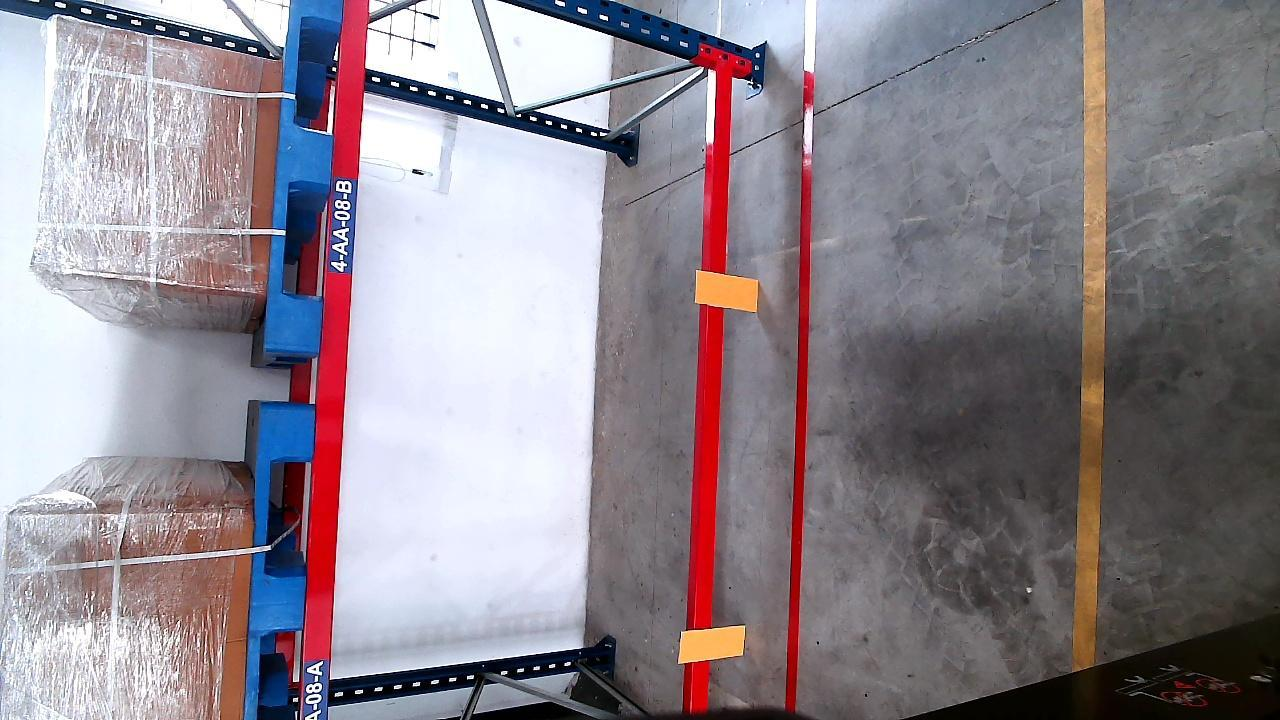red_line: (787, 0, 817, 711)
yellow_line: (1077, 1, 1107, 671)
